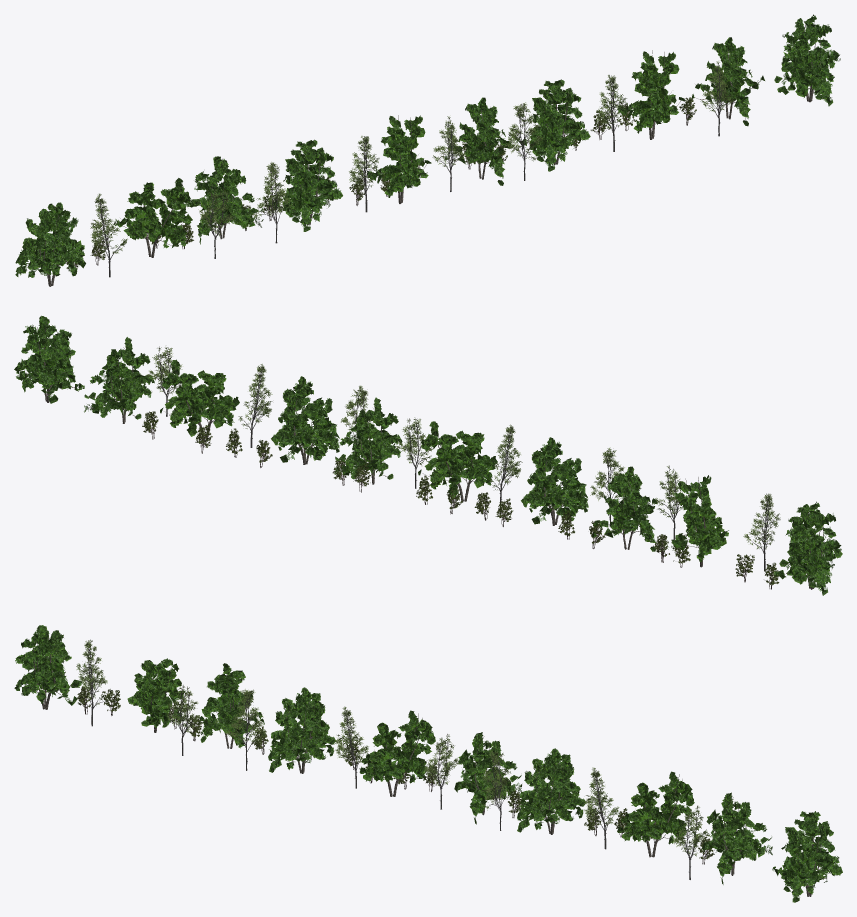
File: Trees.fbx
3 renders of one model, top to bottom at view 1: azimuth 30°, elevation 25°; view 2: azimuth 150°, elevation 25°; view 3: azimuth 330°, elevation 25°, orthographic.
Parts seen in each view (by area): view 1: UBH Trees.Shape; view 2: UBH Trees.Shape; view 3: UBH Trees.Shape.
Boxes of the visible parts, box(x1,y1,x2,y2) form: UBH Trees.Shape: box(15, 14, 840, 286); UBH Trees.Shape: box(14, 315, 842, 595); UBH Trees.Shape: box(14, 625, 842, 902).
Bounding box in the file's own units: 4831 × 497 × 481.
Materials: 17 (17 with a texture image).
